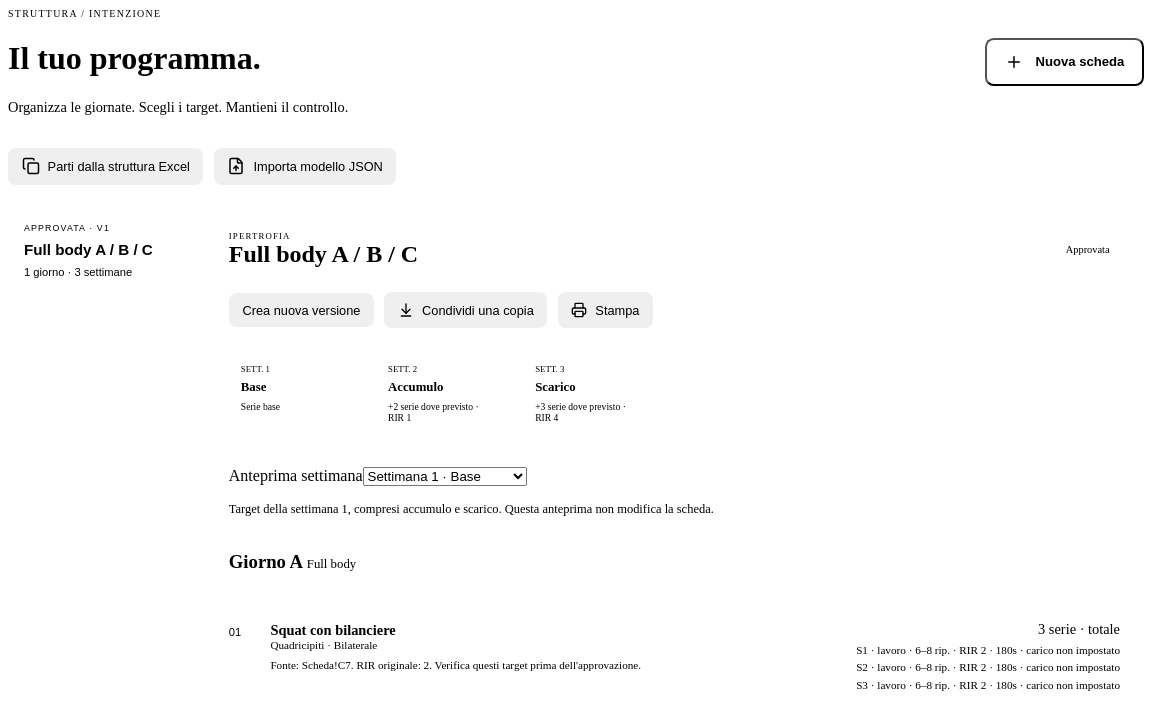
it: l’anteprima mostra accumulo e scarico senza modificare la scheda approvata
Check: the text "S1 · lavoro · 6–8 rip. · RIR 2 · 180s · carico non impostato" is shown 3 times, box [856,644,1120,656]; [856,661,1120,673]; [856,679,1120,691]
Select "Settimana 2 · Accumulo" in the dropdown labelled "Anteprima settimana" at point(444, 477), box [362,467,526,486]
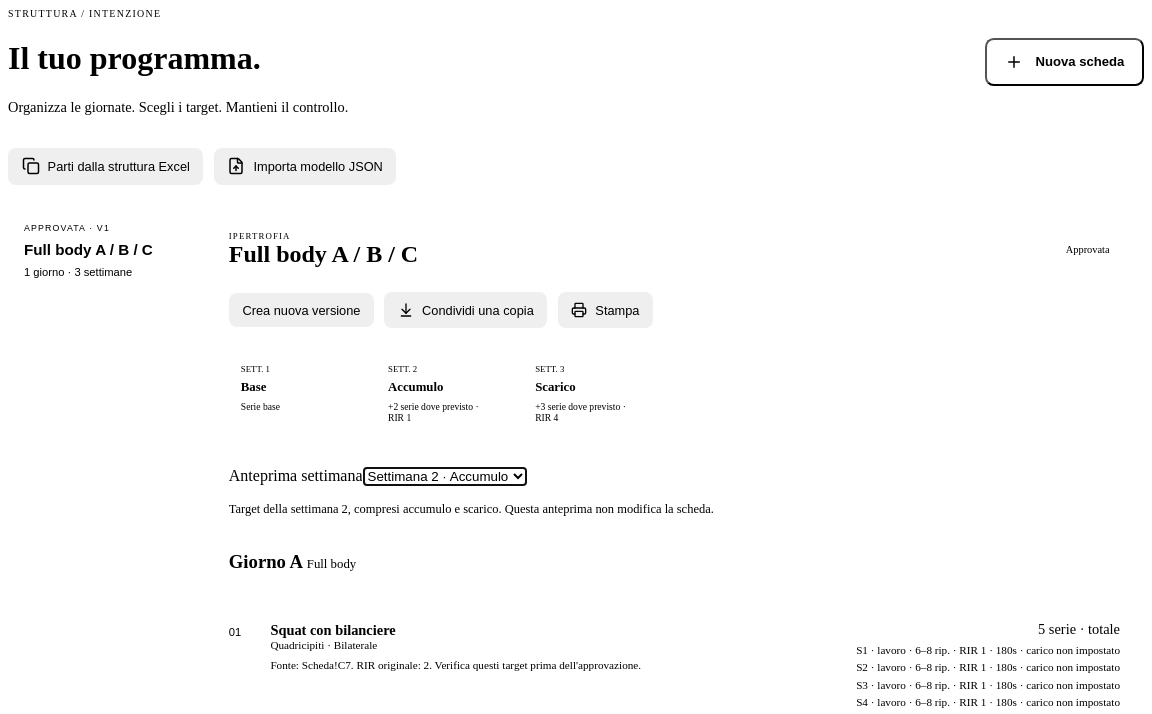
Select "Settimana 3 · Scarico" in the dropdown labelled "Anteprima settimana" at point(444, 477), box [362,467,526,486]
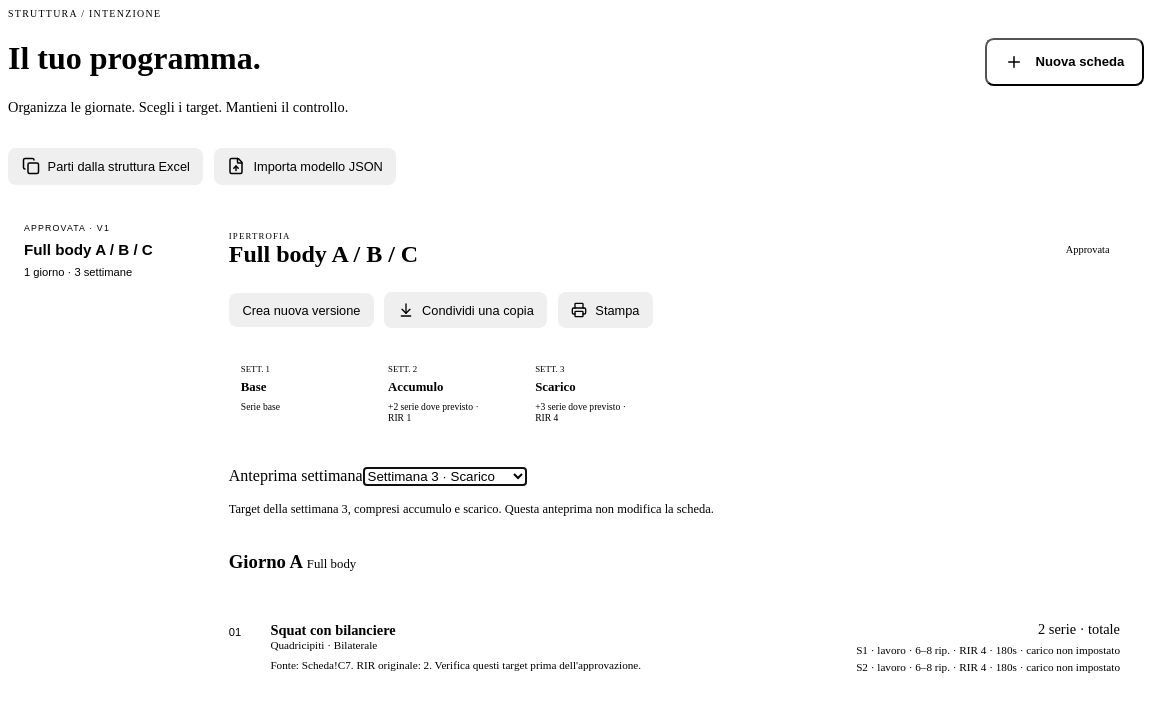
Check: the text "S1 · lavoro · 6–8 rip. · RIR 4 · 180s · carico non impostato" is shown 2 times, box [856,644,1120,656]; [856,661,1120,673]
